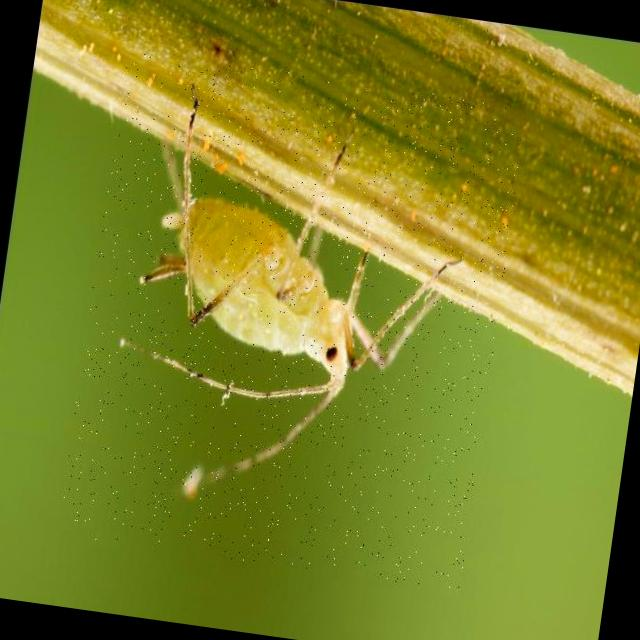aphid: (58, 48, 528, 590)
